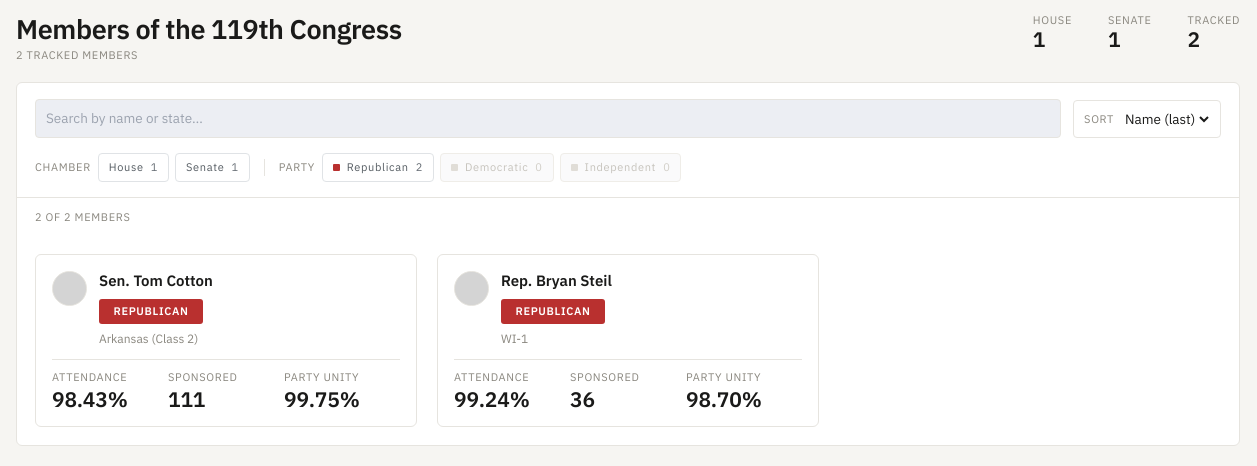
Test case: members index › zero-count chips are disabled; chamber filter, search, and sort work; empty state clears
The image size is (1257, 466).
Expected: the button "Democratic 0" is disabled, [440,153,554,182]
Expected: the button "Independent 0" is disabled, [560,153,681,182]
Click the button "House 1" at (134, 167), box [98,153,169,182]
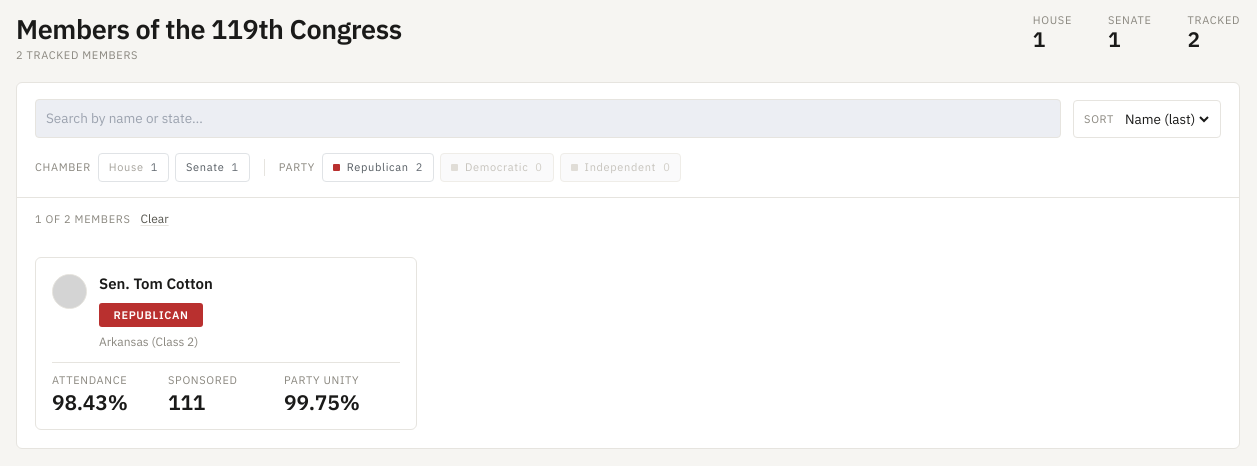
Expected: the text "1 of 2 members" is shown, [35,212,130,226]
Expected: the link "Rep. Bryan Steil" is gone
Click the button "Clear" at (155, 218), box [140,210,169,227]
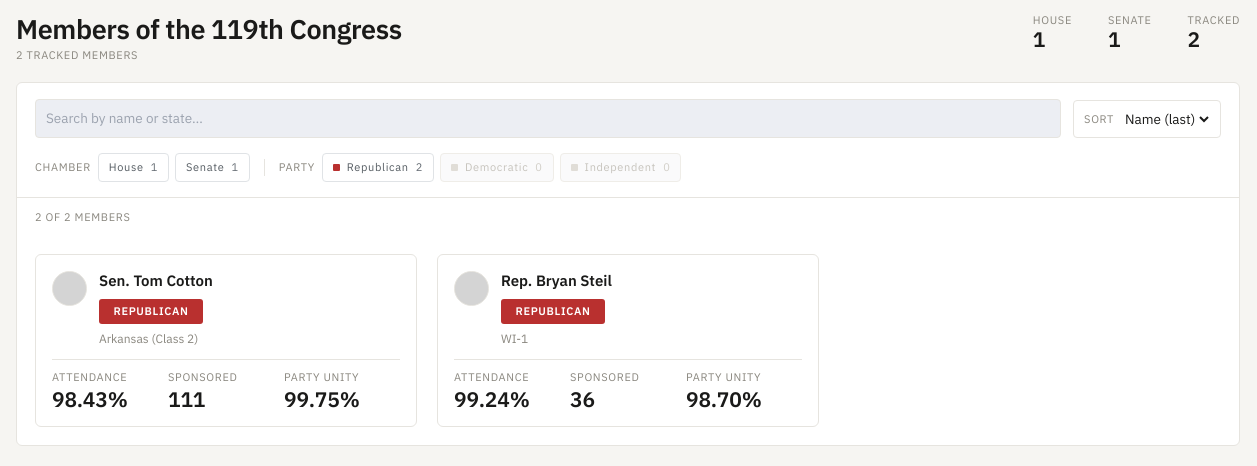
Select "Attendance" in the dropdown at (1166, 119), box [1121,109,1212,129]
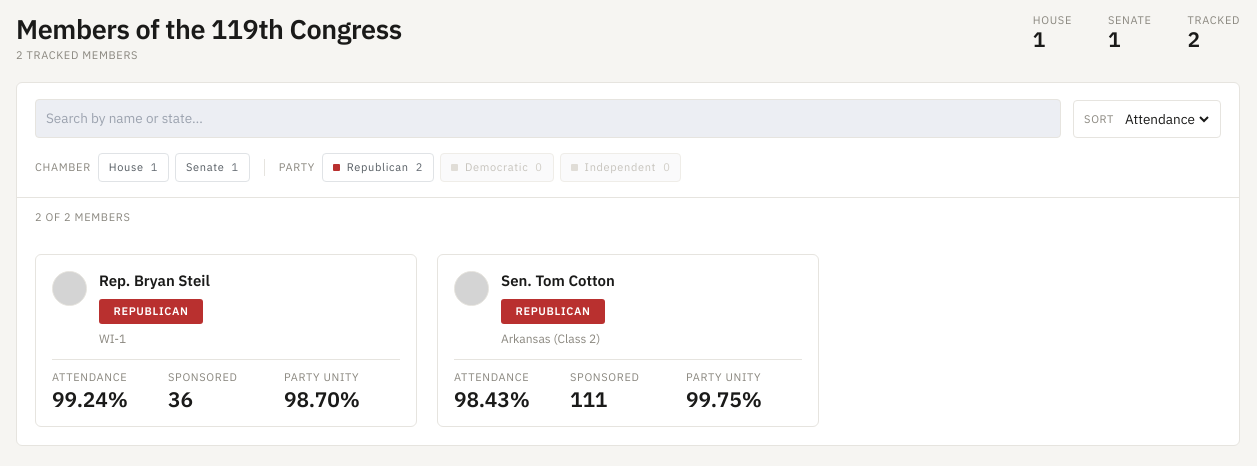
Expected: the link that starts with "Rep. Bryan Steil" is shown, [35,254,417,427]
Type "Nebraska" into the search field named "Search members" at (548, 119), box [35,99,1061,138]
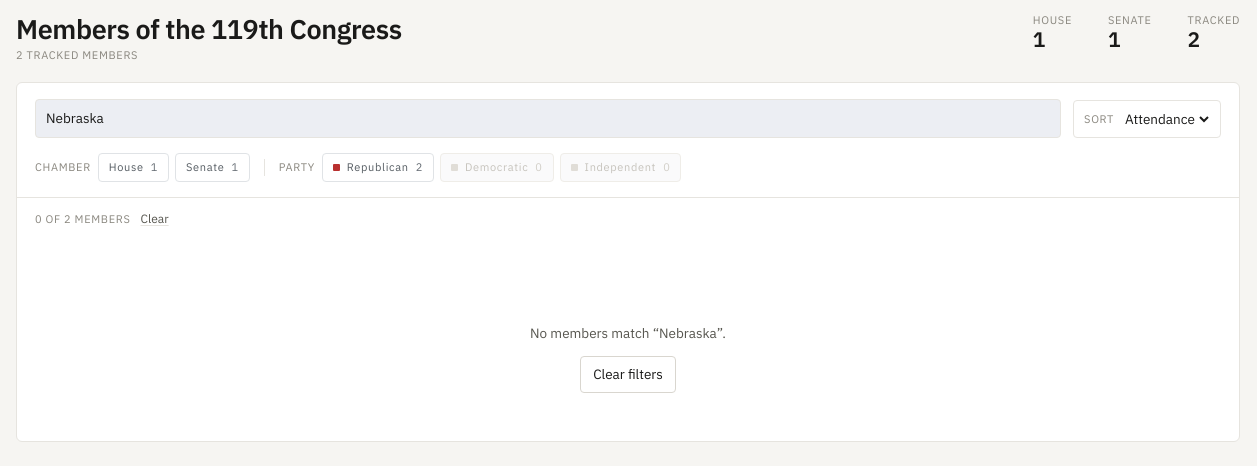
Expected: the text "No members match “Nebraska”." is shown, [530,323,726,344]
Click the button "Clear filters" at (628, 374), box [580,356,676,393]
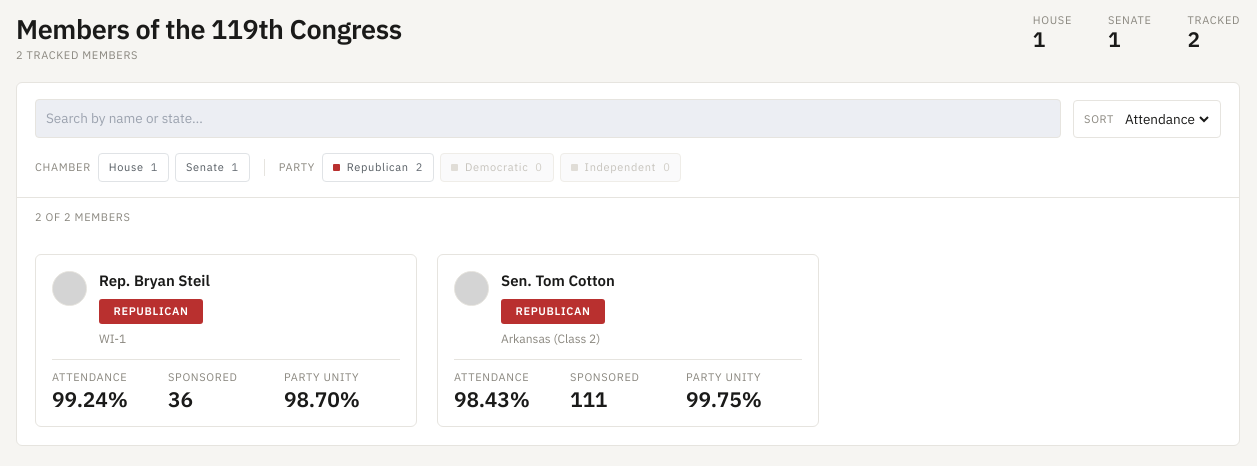
Expected: the text "2 of 2 members" is shown, [35,210,130,224]
